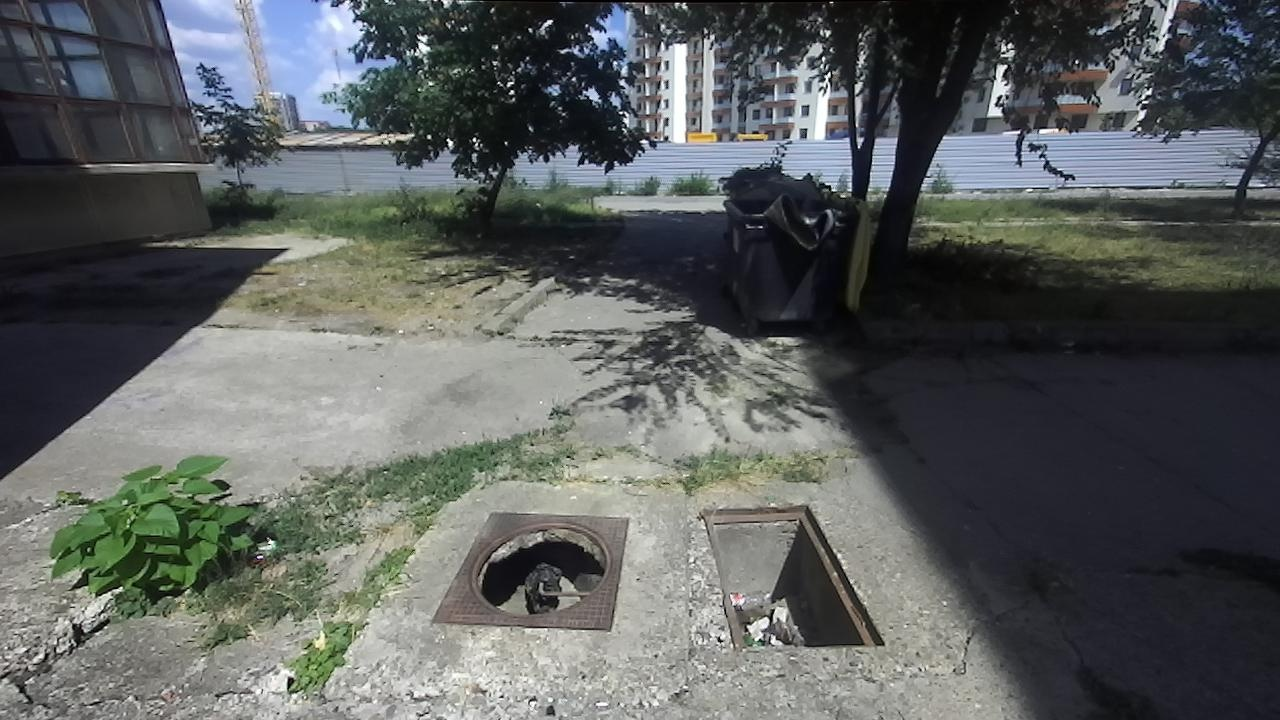drain: (696, 500, 890, 658), (460, 518, 613, 622)
